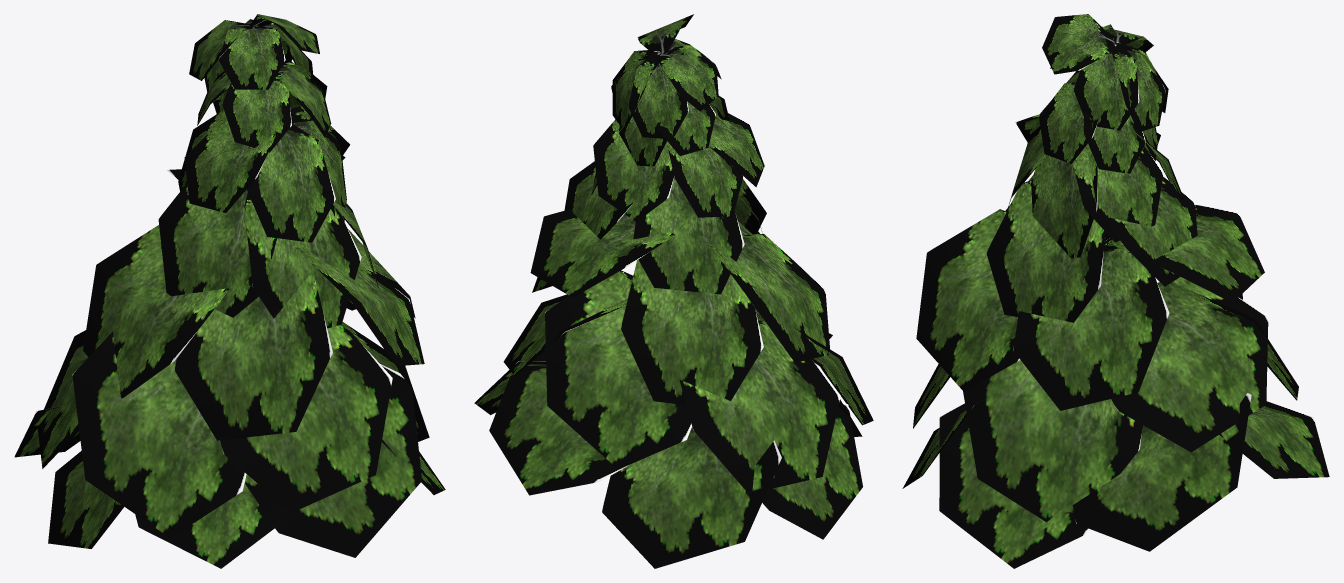
Rendered from Pine_001.FBX.
The picture shows the model from 3 angles, left to right: view 1: azimuth 30°, elevation 25°; view 2: azimuth 150°, elevation 25°; view 3: azimuth 270°, elevation 25°; orthographic projection. The views are drawn at different scales.
Visible parts, largest first — view 1: Pine; view 2: Pine; view 3: Pine.
Part boxes in pixels (box(x1,y1,x2,y2)): Pine: box(14, 14, 445, 568); Pine: box(474, 14, 873, 568); Pine: box(902, 14, 1329, 568).
Size of the model in its own units: 42.27 by 54.63 by 42.21.
